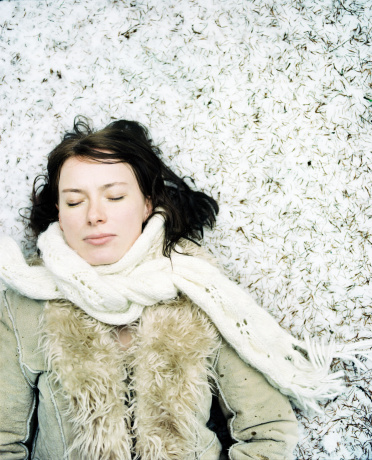deitado: (0, 120, 247, 452)
